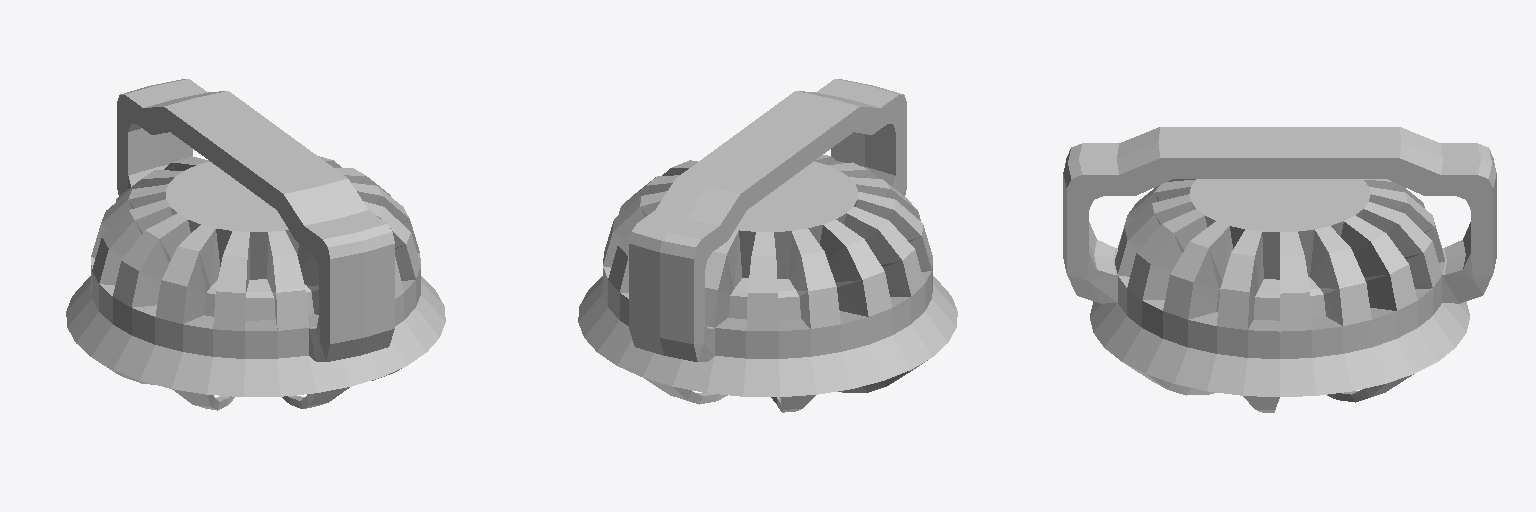
Rendered from cavelight.obj.
3 views of the same model, side by side, from view 1: azimuth 30°, elevation 25°; view 2: azimuth 150°, elevation 25°; view 3: azimuth 270°, elevation 25° (orthographic).
Visible parts, largest first — view 1: body, mount; view 2: body, mount; view 3: body, mount.
Boxes of the visible parts, box(x1,y1,x2,y2) form: body: box(66, 156, 445, 410); mount: box(117, 79, 394, 361); body: box(578, 155, 957, 412); mount: box(629, 79, 906, 361); body: box(1090, 179, 1469, 412); mount: box(1063, 127, 1496, 303).
Size of the model in its own units: 0.46 by 0.3028 by 0.5238.